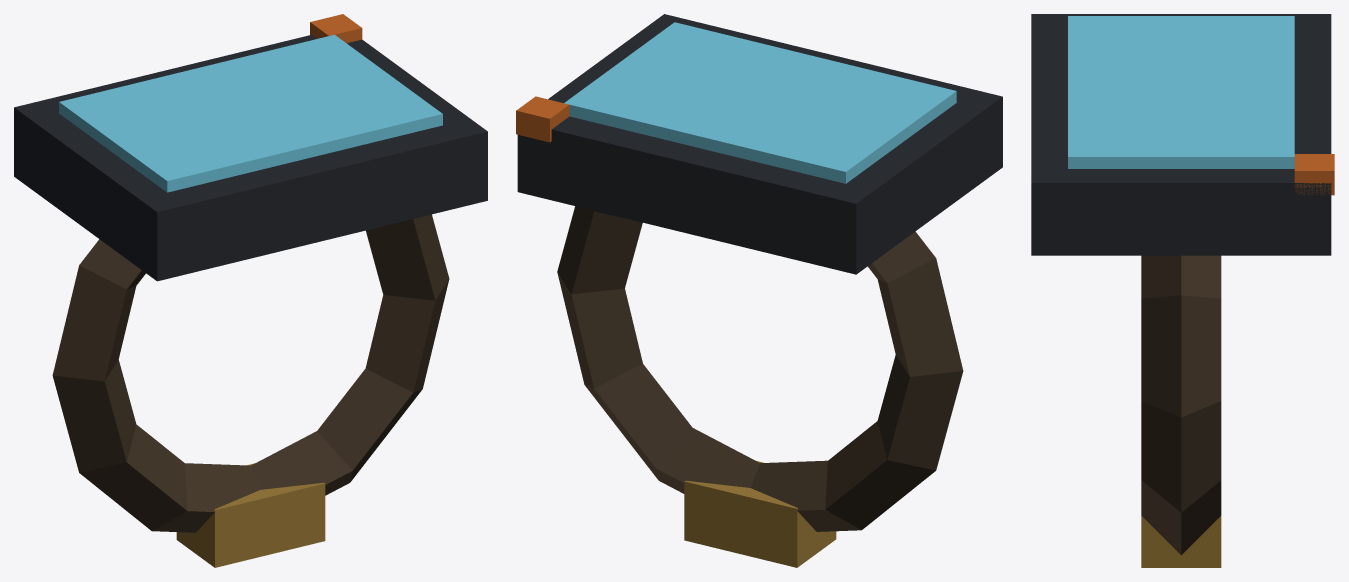
File: wristpad.glb
3 renders of one model, left to right at view 1: azimuth 30°, elevation 25°; view 2: azimuth 150°, elevation 25°; view 3: azimuth 270°, elevation 25°, orthographic. The views are drawn at different scales.
Visible parts, largest first — view 1: m; view 2: m; view 3: m.
Part boxes in pixels (x1,y1,x2,y2): m: [14, 14, 487, 567]; m: [516, 14, 1002, 567]; m: [1031, 14, 1334, 567].
Size of the model in its own units: 0.0672 by 0.07 by 0.0425.
